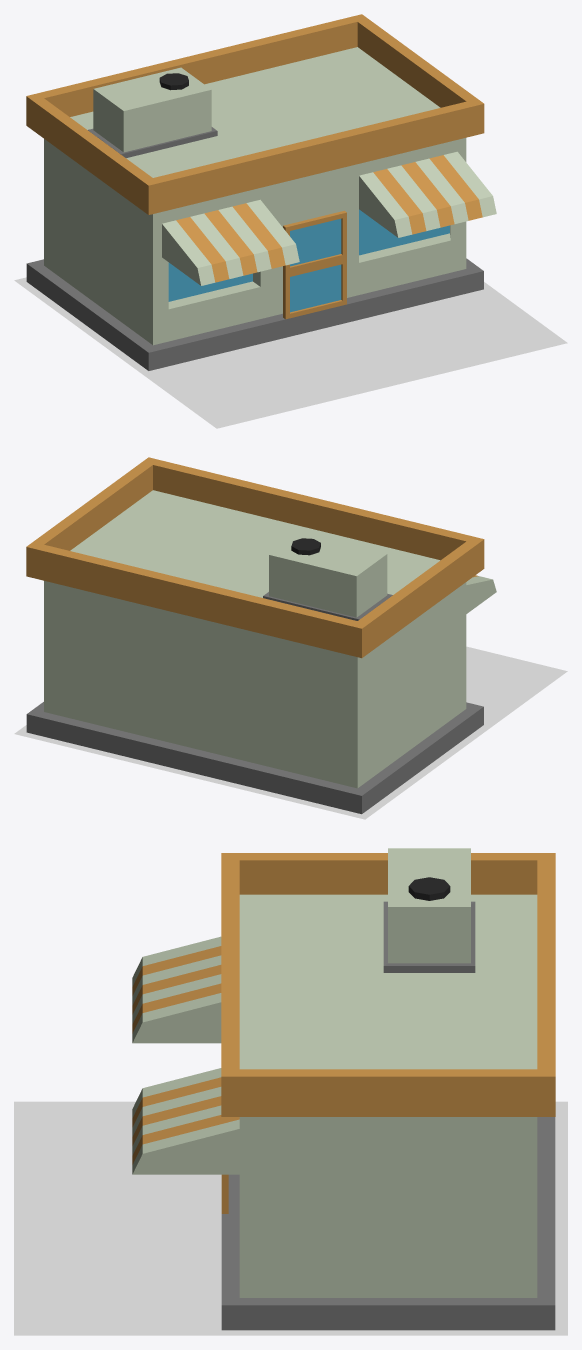
Rendered from Building03.fbx.
The picture shows the model from 3 angles, top to bottom: view 1: azimuth 30°, elevation 25°; view 2: azimuth 150°, elevation 25°; view 3: azimuth 270°, elevation 25°; orthographic projection. The views are drawn at different scales.
Visible parts, largest first — view 1: Plane.006, Plane.010, Plane.009, Plane.008, Plane.007; view 2: Plane.006, Plane.010, Plane.008; view 3: Plane.006, Plane.010, Plane.009, Plane.008.
Boxes of the visible parts, x1,y1,x2,y2 form: Plane.006: (26,14,484,370); Plane.010: (14,277,567,428); Plane.009: (359,151,496,237); Plane.008: (162,199,299,285); Plane.007: (283,210,346,319); Plane.006: (26,457,484,814); Plane.010: (14,646,567,819); Plane.008: (466,575,496,613); Plane.006: (221,848,555,1330); Plane.010: (14,1101,567,1335); Plane.009: (132,1068,239,1174); Plane.008: (132,936,221,1043).
Size of the model in its own units: 800 by 460 by 800.
